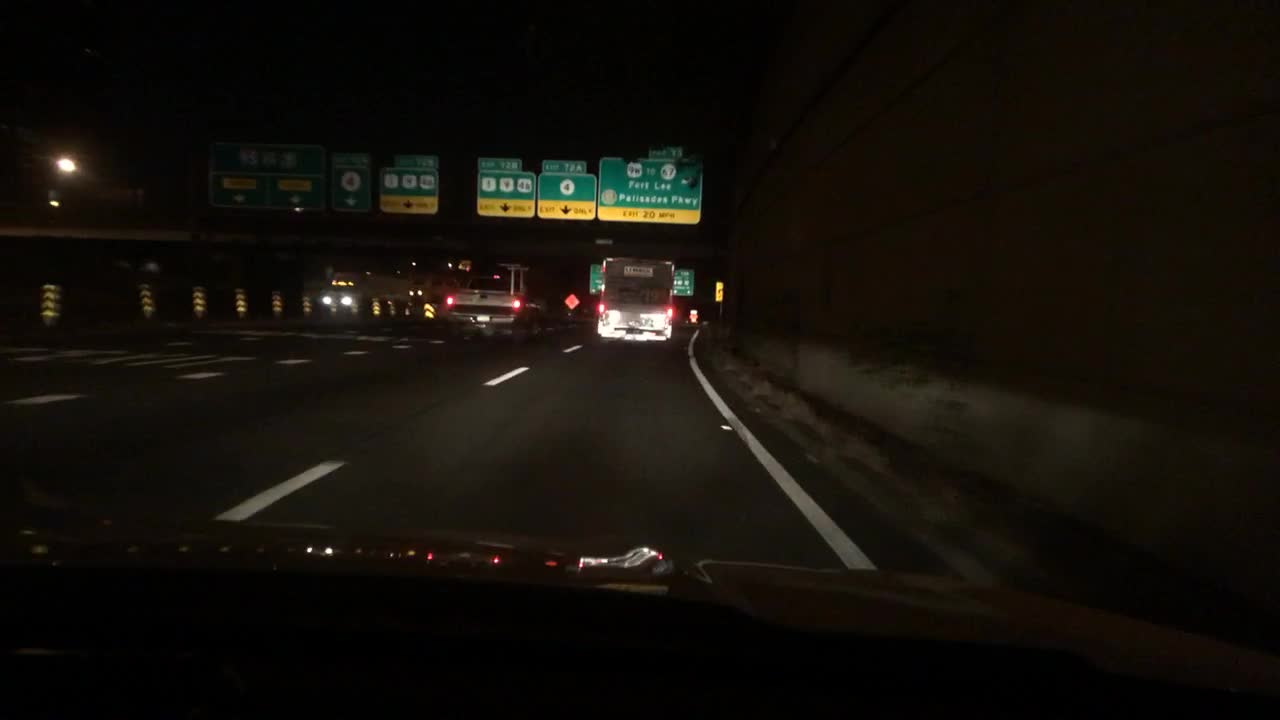car: (438, 268, 548, 341), (319, 278, 355, 312)
traffic sign: (597, 154, 705, 223), (209, 167, 326, 215), (209, 137, 324, 174), (588, 260, 696, 295), (475, 170, 537, 219), (378, 169, 442, 214), (537, 173, 596, 220), (331, 164, 370, 211), (478, 155, 524, 174), (542, 156, 589, 174), (392, 151, 438, 169), (44, 280, 60, 320), (137, 280, 155, 313), (331, 151, 368, 165), (650, 146, 682, 161), (192, 284, 207, 313), (563, 293, 584, 309), (234, 288, 247, 313), (270, 290, 284, 312), (421, 299, 437, 318), (715, 278, 727, 302), (371, 294, 383, 316), (301, 293, 312, 315), (687, 308, 697, 322), (498, 261, 520, 267), (507, 265, 527, 270)
truck: (595, 255, 679, 350)
